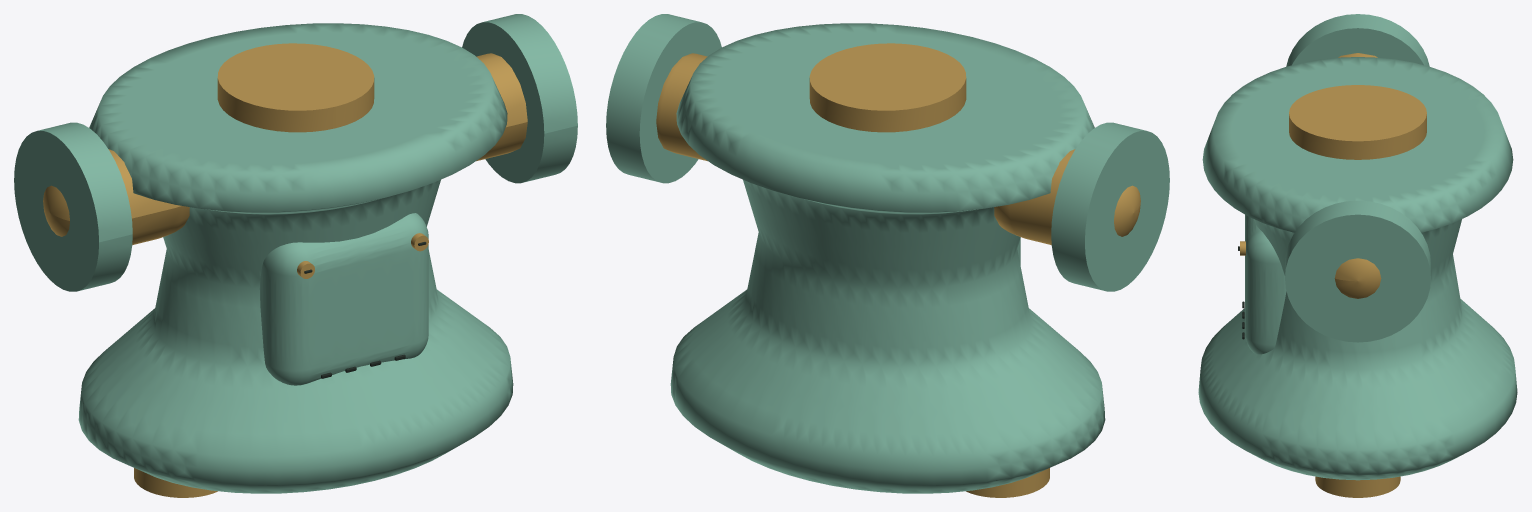
The model's file is hotshot-torso-0.glb.
The picture shows the model from 3 angles, left to right: view 1: azimuth 30°, elevation 25°; view 2: azimuth 150°, elevation 25°; view 3: azimuth 270°, elevation 25°; orthographic projection. The views are drawn at different scales.
Visible parts, largest first — view 1: torso_clay, torso_paint, torso_hardware; view 2: torso_clay, torso_paint, torso_hardware; view 3: torso_clay, torso_paint, torso_hardware.
Part boxes in pixels (x1=…): torso_clay: x1=78, y1=23, x2=513, y2=493; torso_paint: x1=14, y1=14, x2=577, y2=291; torso_hardware: x1=43, y1=43, x2=527, y2=497; torso_clay: x1=670, y1=23, x2=1105, y2=493; torso_paint: x1=606, y1=14, x2=1169, y2=291; torso_hardware: x1=656, y1=43, x2=1140, y2=497; torso_clay: x1=1198, y1=57, x2=1517, y2=480; torso_paint: x1=1285, y1=14, x2=1430, y2=342; torso_hardware: x1=1240, y1=53, x2=1426, y2=497.
Bounding box in the file's own units: 1.62 × 1.17 × 1.06.
